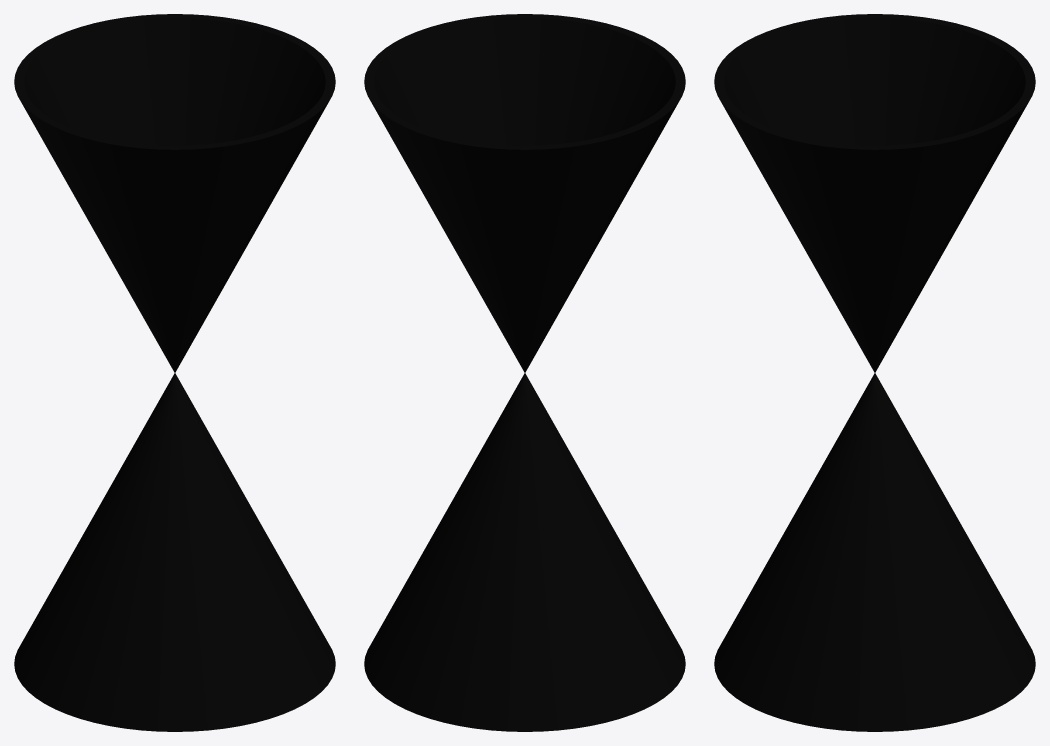
File: cono eliptico.fbx
3 views of the same model, side by side, from view 1: azimuth 30°, elevation 25°; view 2: azimuth 150°, elevation 25°; view 3: azimuth 270°, elevation 25° (orthographic).
Parts seen in each view (by area): view 1: root (×2); view 2: root (×2); view 3: root (×2).
Part boxes in pixels (bbox=[...]): root (×2): bbox=[14, 14, 335, 731]; root (×2): bbox=[364, 14, 685, 731]; root (×2): bbox=[714, 14, 1035, 731].
Size of the model in its own units: 1.02 by 2.04 by 1.02.
2 materials, 2 textured.
